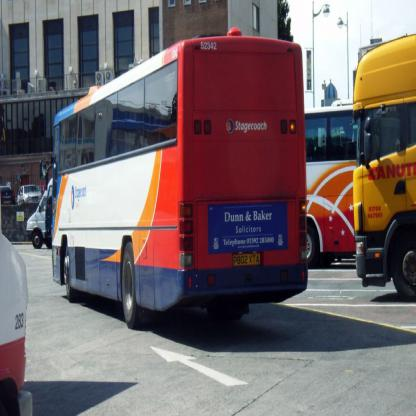Bus: (38, 22, 308, 335), (352, 31, 416, 302), (301, 106, 353, 266), (333, 94, 353, 106)
